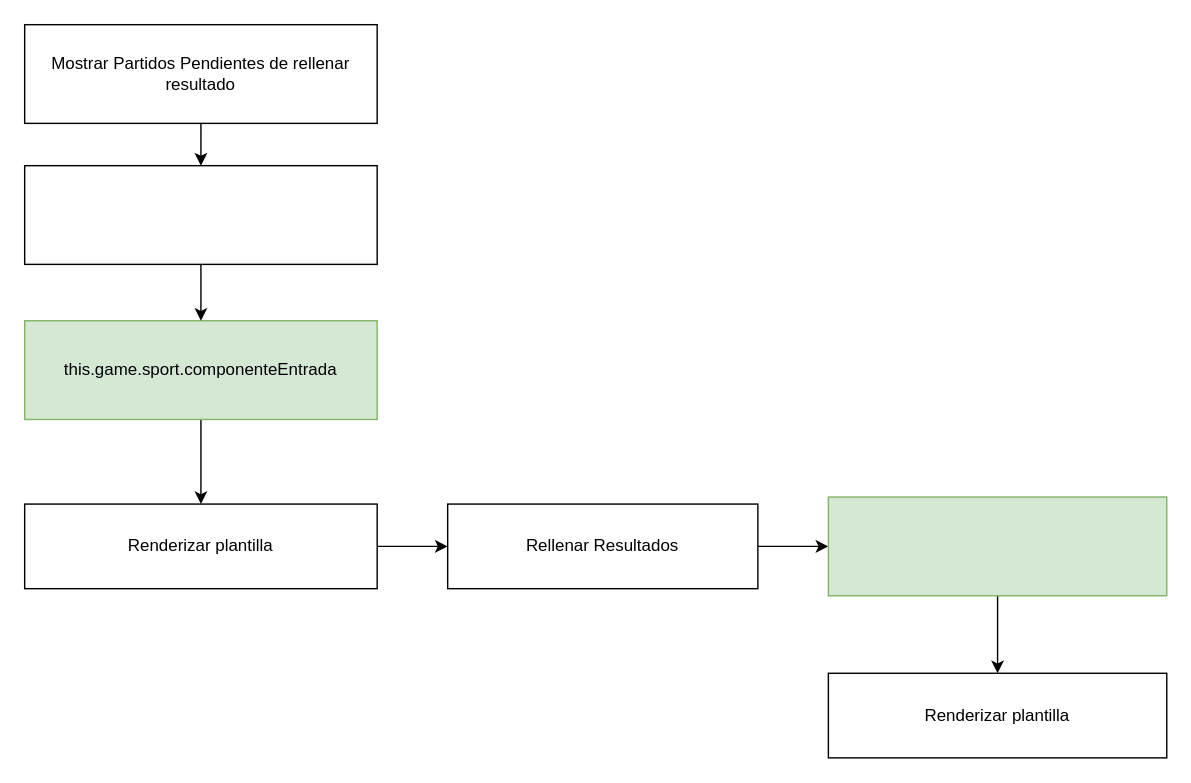
Image size: 1191x783. Some labels were removed from this diagram. The centre of each missing label's shape, as x and y in pixels:
"Clickear en un partido" belongs at point (200, 214).
"this.game.sport.componenteVisualizacion" belongs at point (997, 546).
